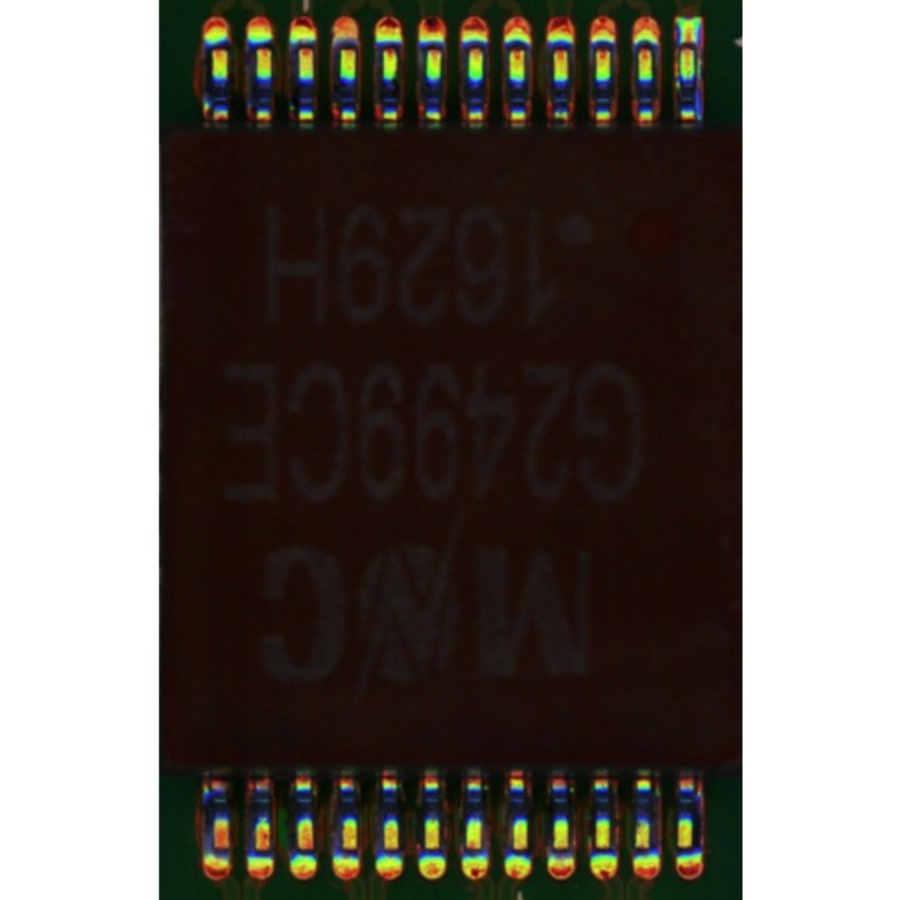Bad_podu: (682, 31, 694, 54)
Bad_qiaojiao: (696, 50, 703, 107), (673, 51, 680, 98)
